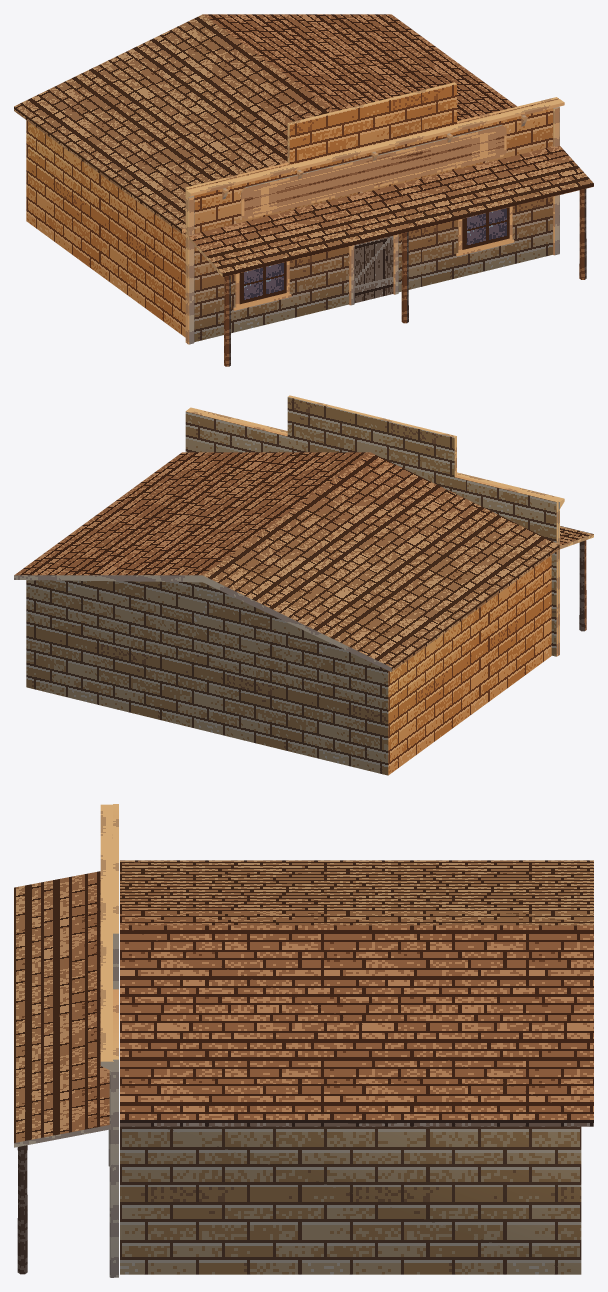
Rendered from wtown.store__brick.glb.
3 views of the same model, one above another, from view 1: azimuth 30°, elevation 25°; view 2: azimuth 150°, elevation 25°; view 3: azimuth 270°, elevation 25° (orthographic). The views are drawn at different scales.
Visible parts, largest first — view 1: kit_roof, kit_front, kit_porch, kit_body, kit_card_panes, kit_trim, kit_windows; view 2: kit_roof, kit_body, kit_front, kit_porch, kit_trim; view 3: kit_roof, kit_body, kit_porch, kit_trim, kit_front.
Boxes of the visible parts, bbox=[...] form: kit_roof: bbox=[14, 14, 516, 233]; kit_front: bbox=[185, 82, 558, 342]; kit_porch: bbox=[188, 146, 593, 366]; kit_body: bbox=[26, 120, 185, 337]; kit_card_panes: bbox=[239, 128, 509, 304]; kit_trim: bbox=[186, 99, 564, 344]; kit_windows: bbox=[233, 206, 514, 310]; kit_roof: bbox=[14, 452, 559, 671]; kit_body: bbox=[26, 555, 551, 775]; kit_front: bbox=[185, 395, 558, 656]; kit_porch: bbox=[560, 526, 593, 631]; kit_trim: bbox=[188, 407, 564, 655]; kit_roof: bbox=[120, 860, 593, 1126]; kit_body: bbox=[120, 1126, 581, 1274]; kit_porch: bbox=[14, 871, 110, 1274]; kit_trim: bbox=[100, 804, 113, 1277]; kit_front: bbox=[113, 804, 118, 1277].
Bounding box in the file's own units: 12 × 5.9 × 11.32.
Materials: 7 (7 with a texture image).
